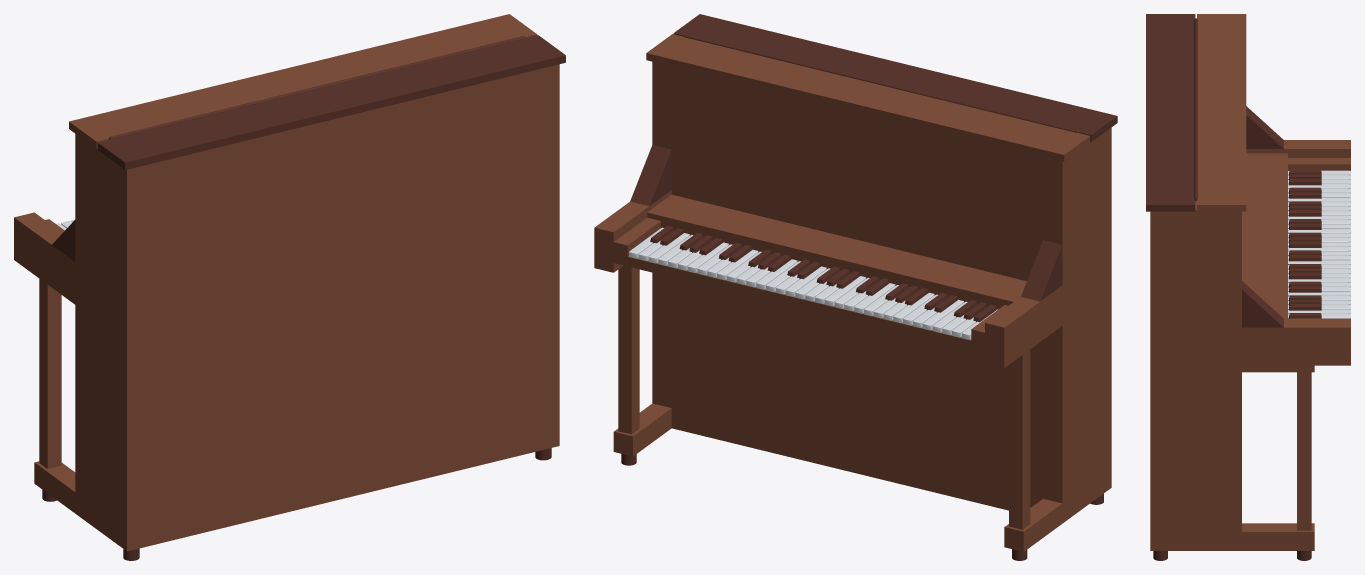
The model's file is Pianos.glb.
3 views of the same model, side by side, from view 1: azimuth 30°, elevation 25°; view 2: azimuth 150°, elevation 25°; view 3: azimuth 270°, elevation 25° (orthographic). The views are drawn at different scales.
Parts seen in each view (by area): view 1: Piano Body, back, front, leg, Cube, Cylinder, foot; view 2: Piano Body, front, Back, back, Cube (×4), leg (×2), Keyboard base, foot (×2), Cylinder, Left; view 3: Piano Body, front, back, Cube (×7), Back, leg, foot (×2), Right, Cylinder.
Part boxes in pixels (box(x1,y1,x2,y2)): Piano Body: box(75, 64, 559, 551); back: box(97, 35, 565, 169); front: box(69, 14, 537, 148); leg: box(39, 279, 61, 468); Cube: box(14, 212, 75, 304); Cylinder: box(111, 36, 524, 139); foot: box(34, 461, 75, 513); Piano Body: box(652, 61, 1111, 522); front: box(646, 34, 1090, 161); Back: box(647, 194, 1026, 309); back: box(673, 14, 1117, 141); Cube (×4): box(594, 145, 1062, 367); leg (×2): box(618, 265, 1030, 529); Keyboard base: box(613, 253, 984, 353); foot (×2): box(613, 403, 1062, 551); Cylinder: box(685, 35, 1077, 132); Left: box(613, 217, 660, 256); Piano Body: box(1150, 200, 1241, 550); front: box(1197, 14, 1246, 211); back: box(1146, 14, 1195, 211); Cube (×7): box(1242, 106, 1350, 365); Back: box(1242, 153, 1287, 318); leg: box(1297, 365, 1311, 530); foot (×2): box(1242, 365, 1314, 550); Right: box(1288, 158, 1350, 170); Cylinder: box(1194, 18, 1197, 197).
Size of the model in its own units: 1.08 by 0.952 by 0.4897.
